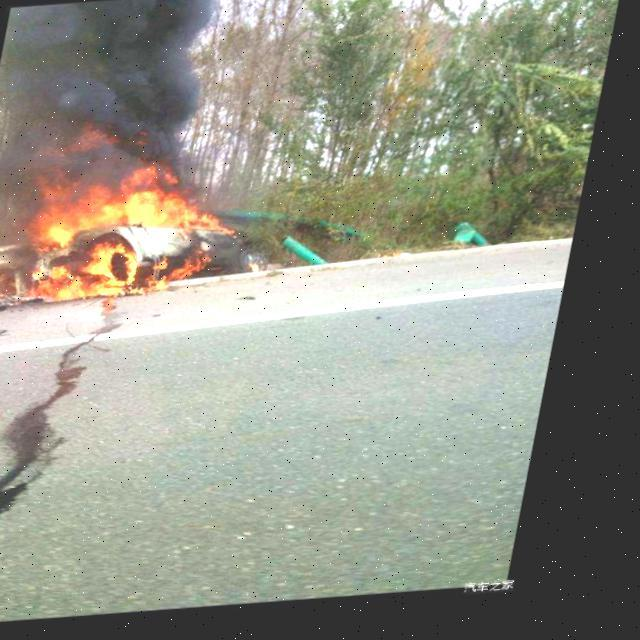Fire: (22, 135, 258, 308)
